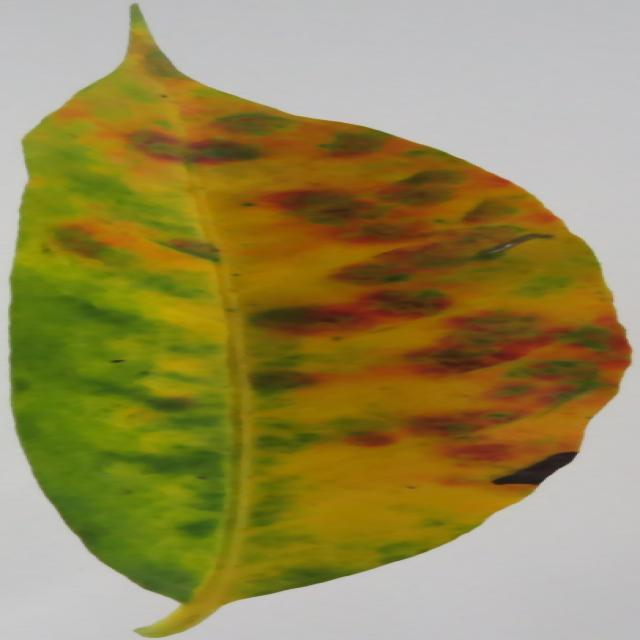DeficienciaNutricional-Fosforo: (13, 12, 628, 637)
